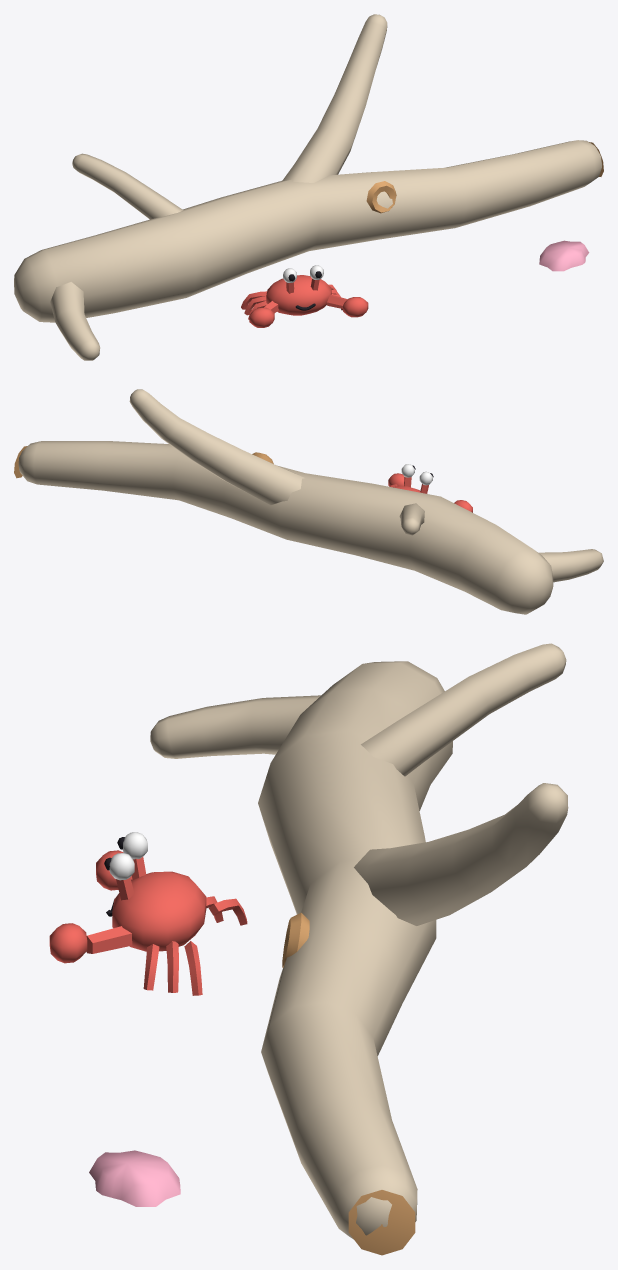
File: prop_driftwood.glb
3 renders of one model, top to bottom at view 1: azimuth 30°, elevation 25°; view 2: azimuth 150°, elevation 25°; view 3: azimuth 270°, elevation 25°, orthographic. The views are drawn at different scales.
Visible parts, largest first — view 1: prop_driftwood; view 2: prop_driftwood; view 3: prop_driftwood.
Part boxes in pixels (x1,y1,x2,y2): prop_driftwood: (14,14,603,360); prop_driftwood: (14,389,603,614); prop_driftwood: (49,643,568,1255).
Bounding box in the file's own units: 1.92 × 0.5826 × 0.8143.
